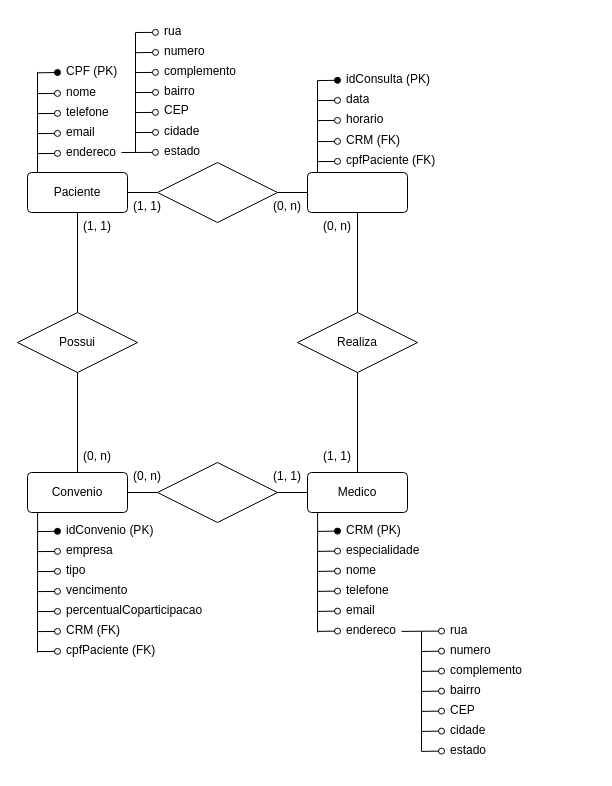
Image size: 612x786. Some labels were removed from this diagram. The centre of each missing label's shape, as x and y in pixels:
Atende: (217,492)
Consulta: (357,192)
Marca: (217,192)
